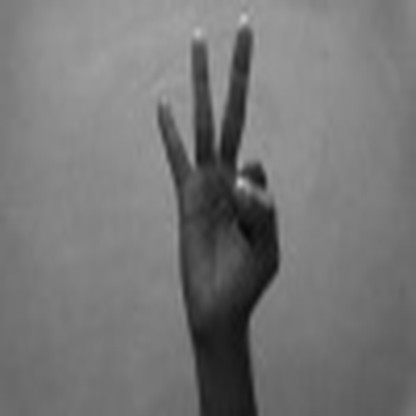f: (149, 9, 286, 334)
